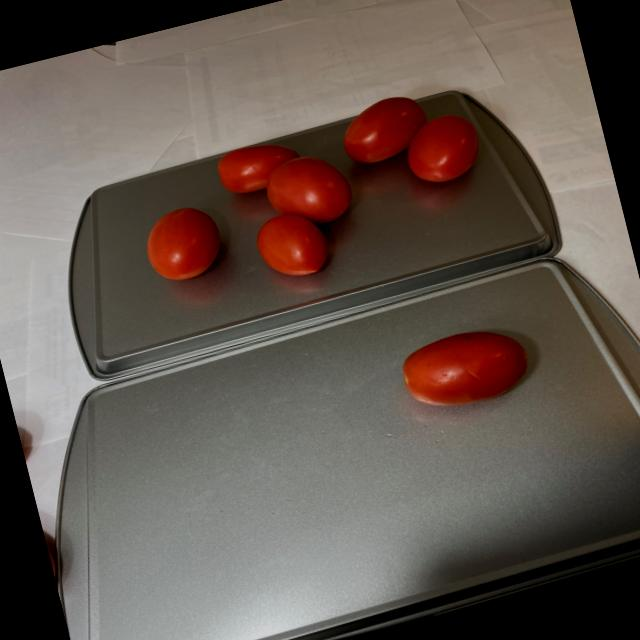tomato: (107, 81, 505, 321), (392, 311, 546, 418)
